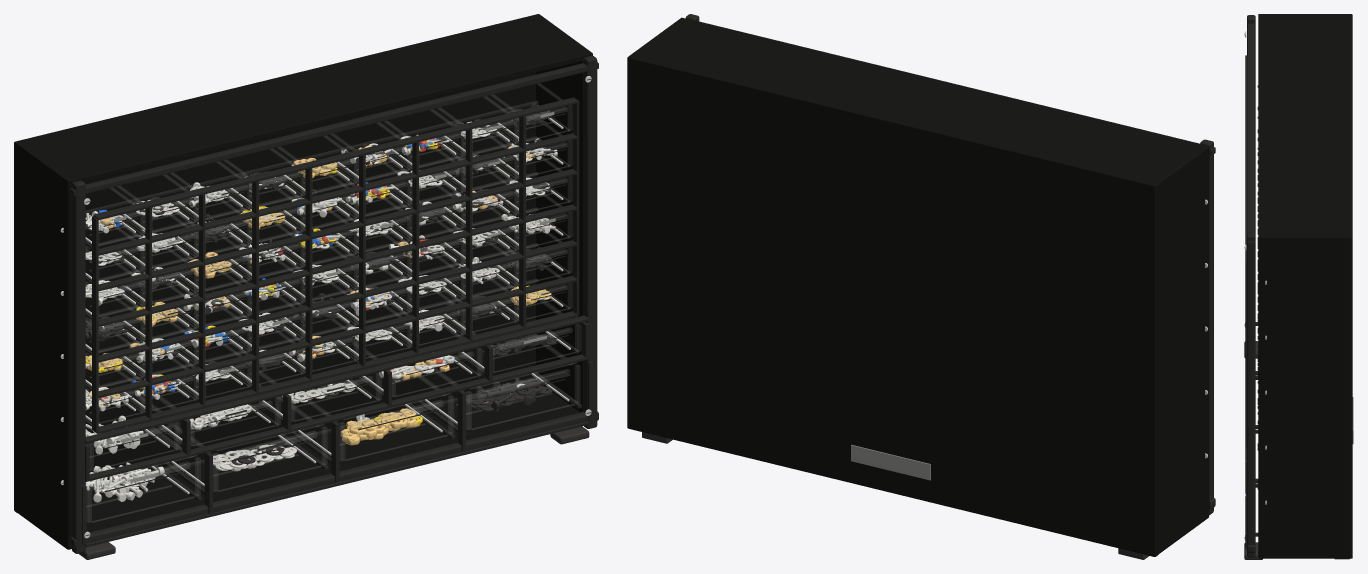
The model's file is plastic-parts-bin-drawer-cabinet.glb.
The picture shows the model from 3 angles, left to right: view 1: azimuth 30°, elevation 25°; view 2: azimuth 150°, elevation 25°; view 3: azimuth 270°, elevation 25°; orthographic projection. The views are drawn at different scales.
Visible parts, largest first — view 1: solid_back_panel_black_textured_metal, static_front_grid_bars_separating_54_small_drawers, top_outer_panel_black_textured_metal, left_outer_side_panel_black_textured_metal, bottom_outer_panel_black_textured_metal, right_outer_side_panel_black_textured_metal, front_perimeter_bottom_metal_edge_below_large_drawers, front_perimeter_top_metal_edge_clear_of_drawer_openings, front_perimeter_right_side_metal_edge, front_perimeter_left_side_metal_edge, thin_clearance_lower_horizontal_shelf_rail_z_1.23, thin_clearance_lower_horizontal_shelf_rail_z_0.81 (+7 smaller); view 2: solid_back_panel_black_textured_metal, top_outer_panel_black_textured_metal, left_outer_side_panel_black_textured_metal, front_perimeter_left_side_metal_edge, thin_back_manufacturer_plate; view 3: right_outer_side_panel_black_textured_metal, top_outer_panel_black_textured_metal, front_perimeter_right_side_metal_edge, solid_back_panel_black_textured_metal, front_perimeter_top_metal_edge_clear_of_drawer_openings, static_front_grid_bars_separating_54_small_drawers, front_perimeter_left_side_metal_edge, left_outer_side_panel_black_textured_metal.
Boxes of the visible parts, box(x1,y1,x2,y2) form: solid_back_panel_black_textured_metal: box(14, 14, 539, 512); static_front_grid_bars_separating_54_small_drawers: box(92, 97, 579, 433); top_outer_panel_black_textured_metal: box(15, 15, 592, 186); left_outer_side_panel_black_textured_metal: box(16, 142, 71, 549); bottom_outer_panel_black_textured_metal: box(29, 385, 579, 549); right_outer_side_panel_black_textured_metal: box(536, 15, 590, 412); front_perimeter_bottom_metal_edge_below_large_drawers: box(70, 411, 598, 547); front_perimeter_top_metal_edge_clear_of_drawer_openings: box(70, 62, 598, 196); front_perimeter_right_side_metal_edge: box(583, 55, 597, 428); front_perimeter_left_side_metal_edge: box(72, 180, 85, 553); thin_clearance_lower_horizontal_shelf_rail_z_1.23: box(85, 315, 588, 443); thin_clearance_lower_horizontal_shelf_rail_z_0.81: box(85, 354, 588, 481); solid_back_panel_black_textured_metal: box(627, 56, 1158, 556); top_outer_panel_black_textured_metal: box(629, 17, 1209, 189); left_outer_side_panel_black_textured_metal: box(1153, 145, 1209, 553); front_perimeter_left_side_metal_edge: box(1200, 139, 1213, 514); thin_back_manufacturer_plate: box(851, 444, 930, 480); right_outer_side_panel_black_textured_metal: box(1258, 234, 1348, 558); top_outer_panel_black_textured_metal: box(1258, 14, 1349, 241); front_perimeter_right_side_metal_edge: box(1247, 232, 1255, 557); solid_back_panel_black_textured_metal: box(1346, 14, 1352, 558); front_perimeter_top_metal_edge_clear_of_drawer_openings: box(1247, 23, 1254, 246); static_front_grid_bars_separating_54_small_drawers: box(1245, 55, 1247, 447); front_perimeter_left_side_metal_edge: box(1247, 15, 1255, 233); left_outer_side_panel_black_textured_metal: box(1259, 14, 1348, 15).
Size of what is drawn, in the model's own units: 6.16 by 4.18 by 1.26.
